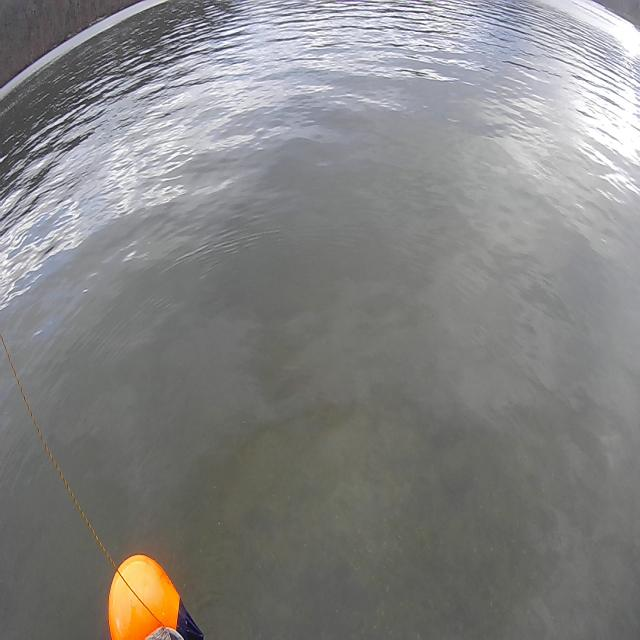Buoy: (105, 547, 206, 640)
